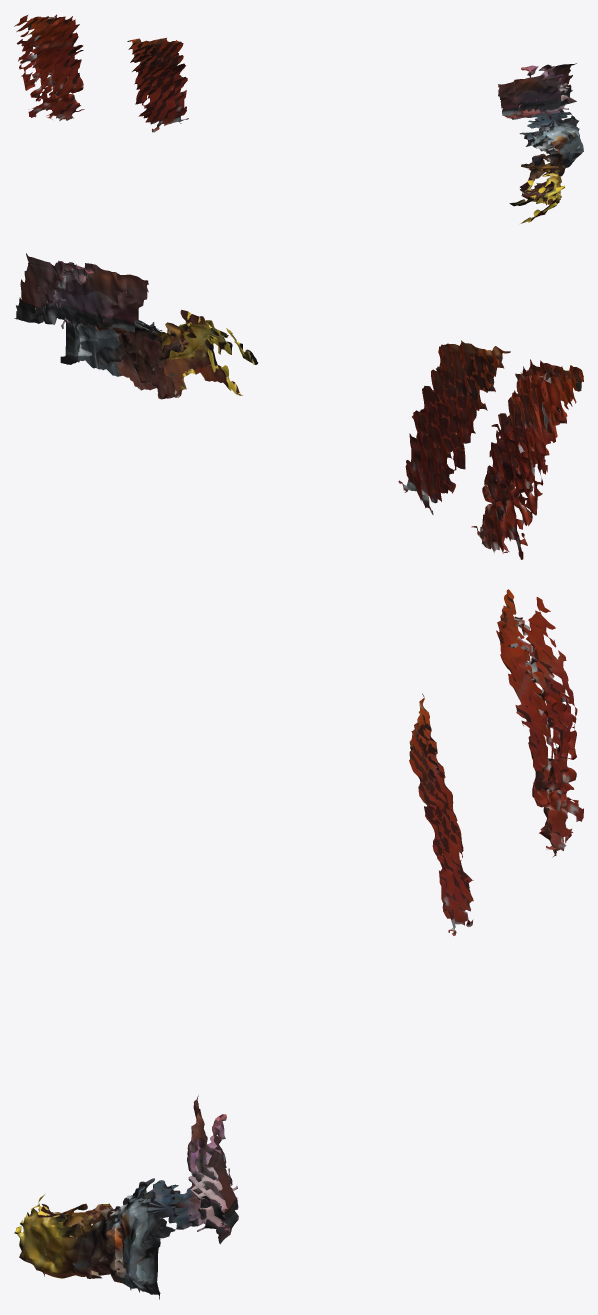
The model's file is scan_20260927_205243_63977.glb.
The picture shows the model from 3 angles, top to bottom: view 1: azimuth 30°, elevation 25°; view 2: azimuth 150°, elevation 25°; view 3: azimuth 270°, elevation 25°; orthographic projection. The views are drawn at different scales.
Parts seen in each view (by area): view 1: MobileScan3D_Textured; view 2: MobileScan3D_Textured; view 3: MobileScan3D_Textured.
Part boxes in pixels (x1,y1,x2,y2): MobileScan3D_Textured: (14,14,583,223); MobileScan3D_Textured: (14,253,583,559); MobileScan3D_Textured: (14,589,583,1299).
Bounding box in the file's own units: 0.5129 × 0.208 × 0.2992.
1 material, 1 textured.
